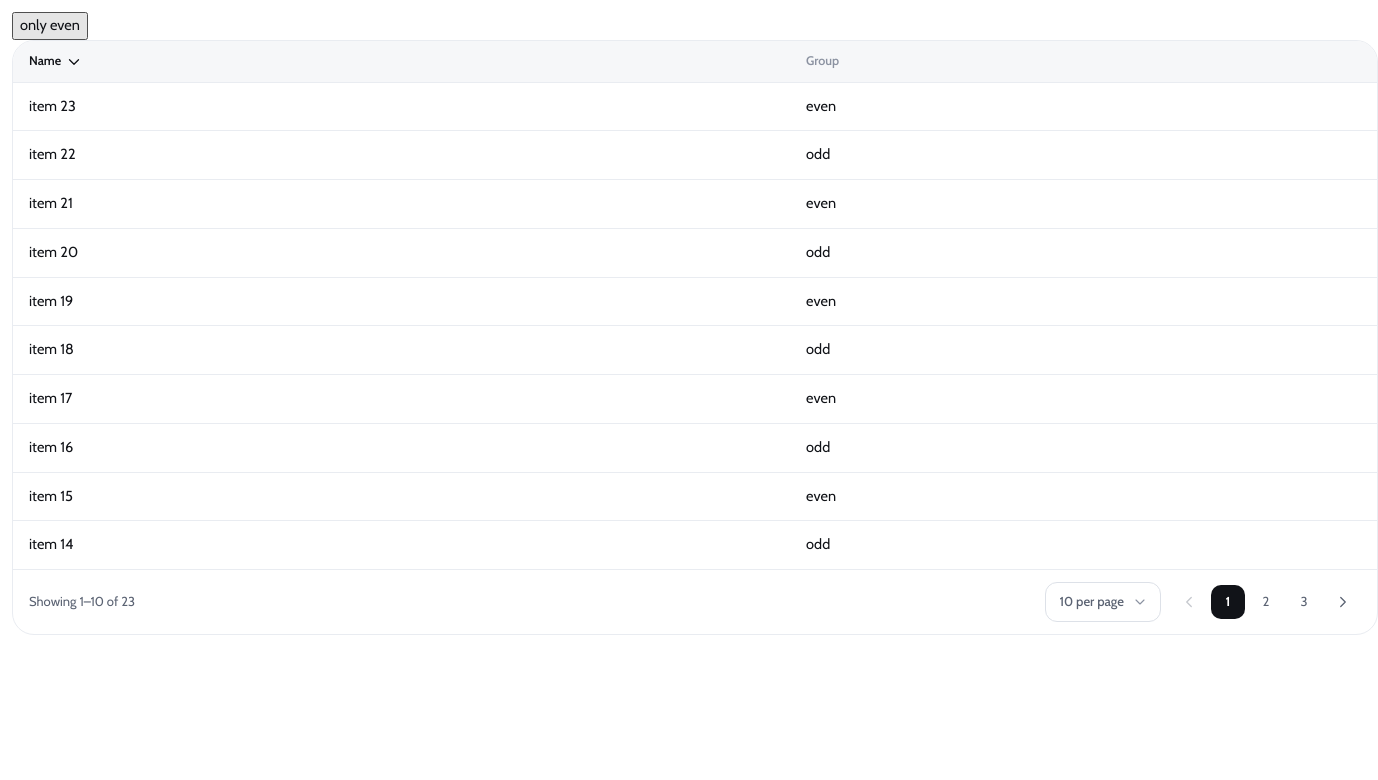
Test: DataTable rows per page › still works when storage is unavailable
This screenshot has width=1378, height=780.
Click the button with aria-label "Rows per page" at (1103, 602), box [1044,582,1161,622]
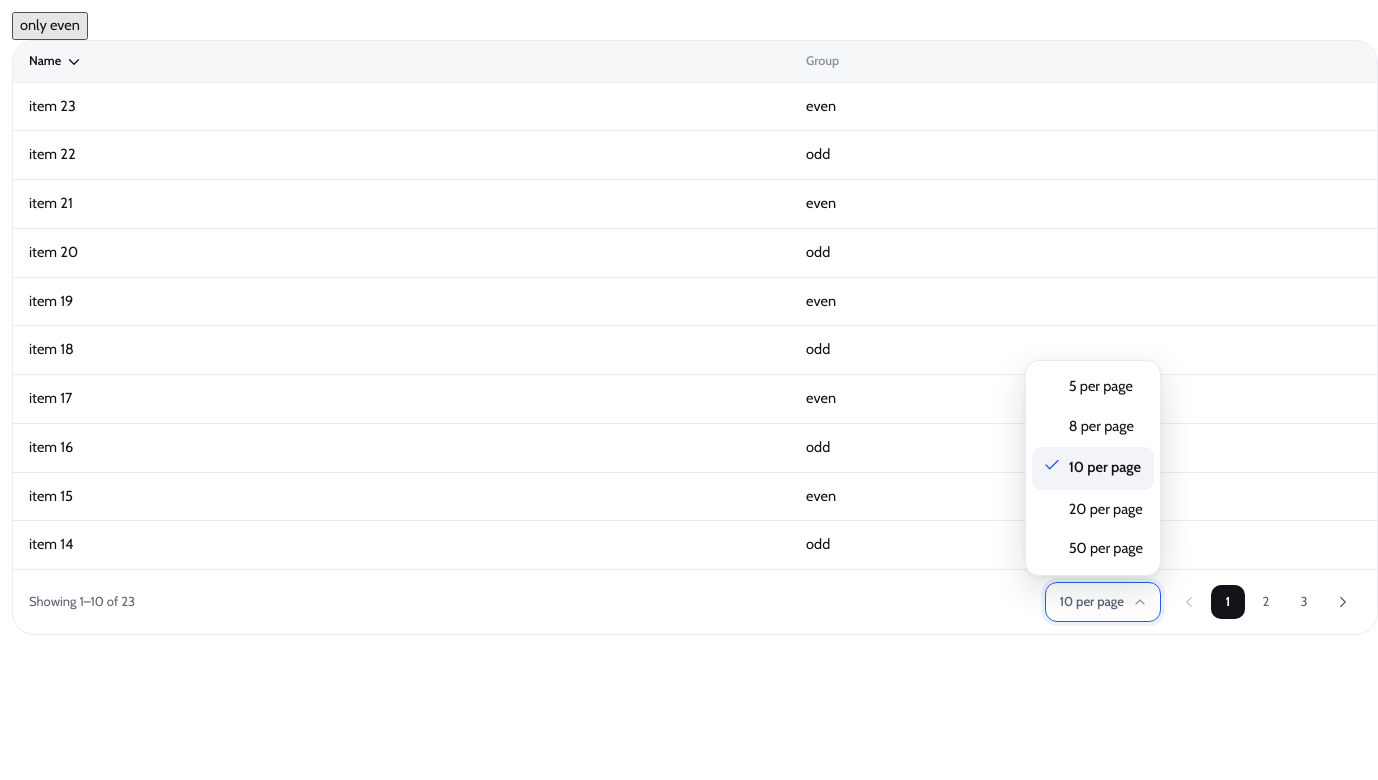
Click the option "8 per page" at (1093, 427), box [1032,407,1154,447]
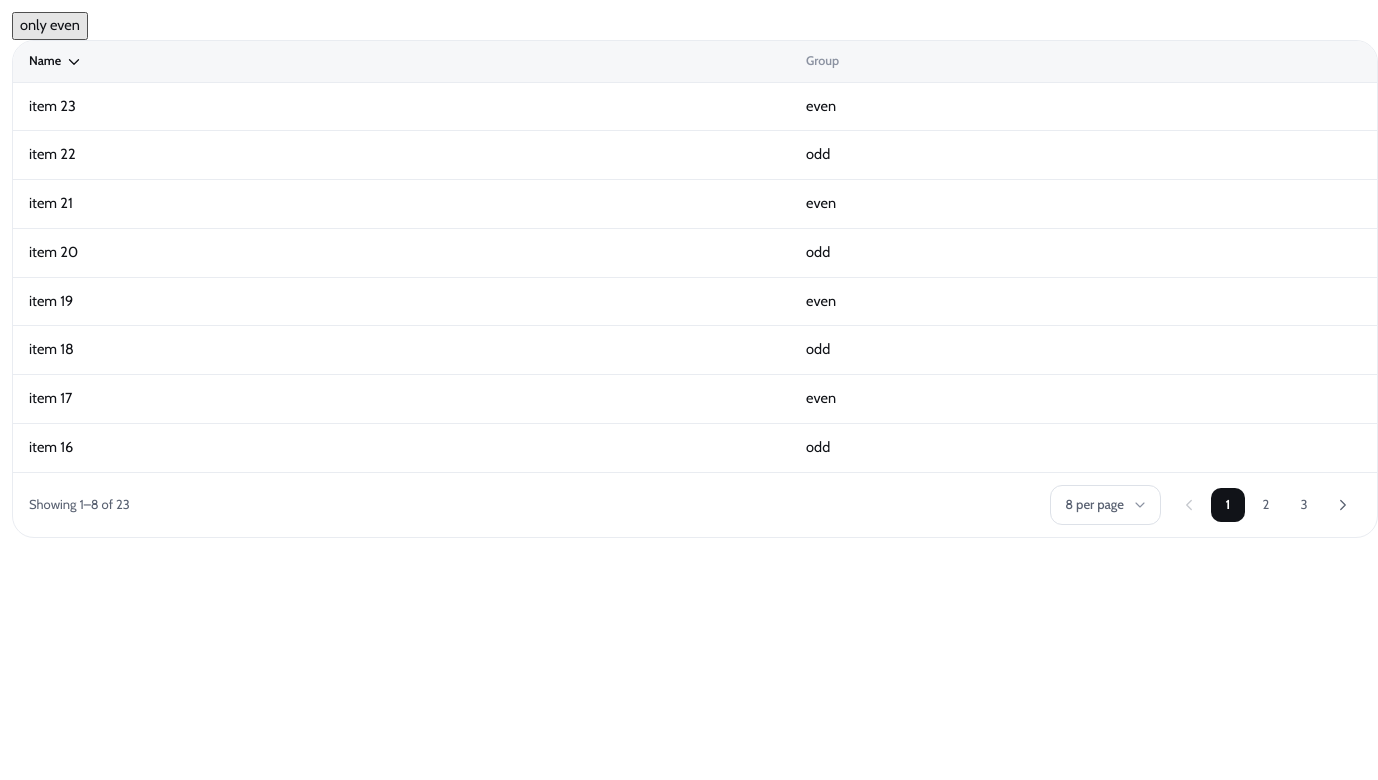
expect the text "Showing 1–8 of 23" is shown: met, box [29,495,130,514]
